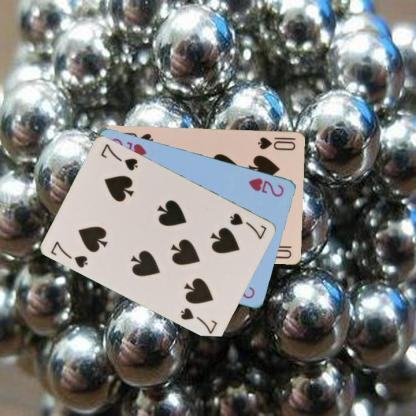10s: (255, 134, 297, 152)
2h: (245, 175, 286, 198)
7s: (48, 238, 90, 269), (227, 210, 268, 241)
